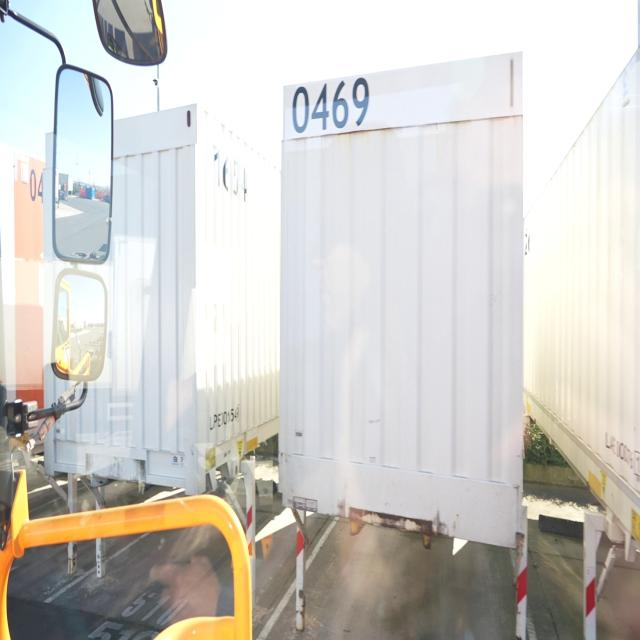Code: (288, 70, 374, 144)
